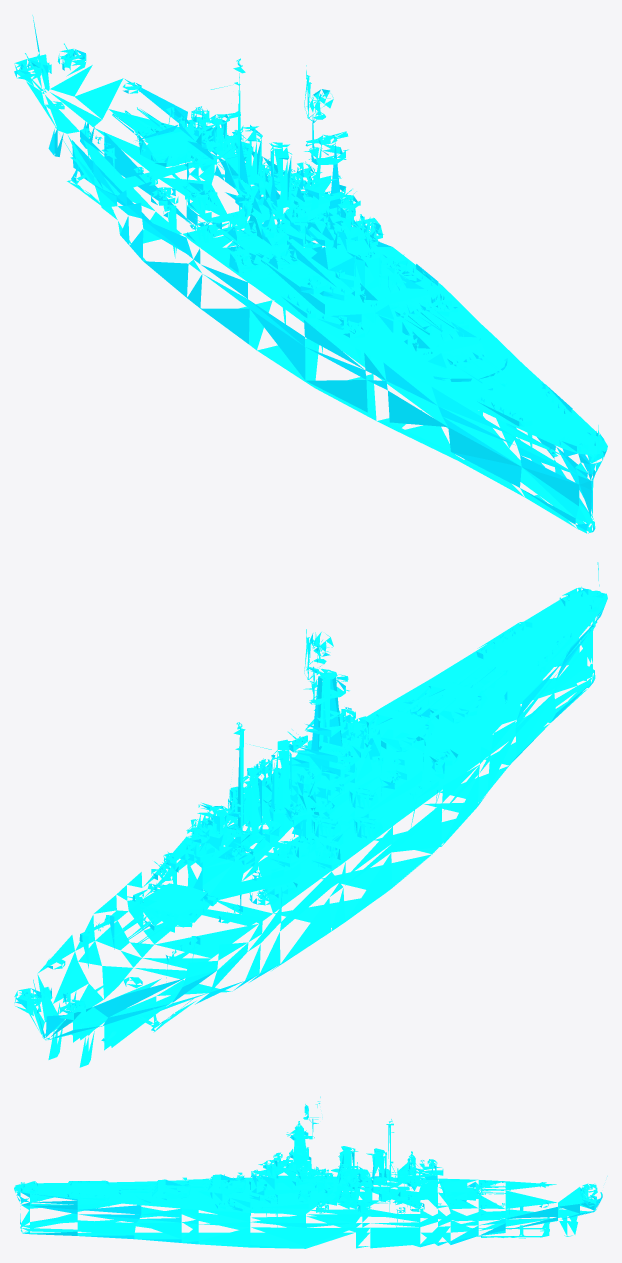
Rendered from Colorful_North_Carolina.glb.
3 renders of one model, top to bottom at view 1: azimuth 30°, elevation 25°; view 2: azimuth 150°, elevation 25°; view 3: azimuth 270°, elevation 25°, orthographic. The views are drawn at different scales.
Bounding box in the file's own units: 2.22 × 3.81 × 14.94.
